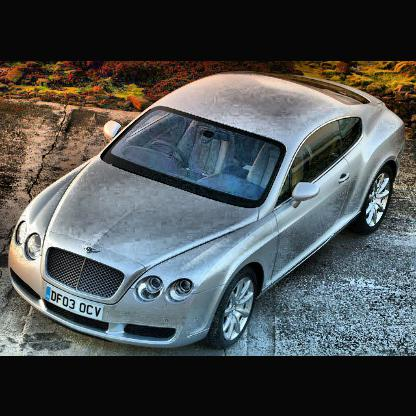Bentley Continental Flying Spur Sedan 2007: (7, 69, 408, 353)
